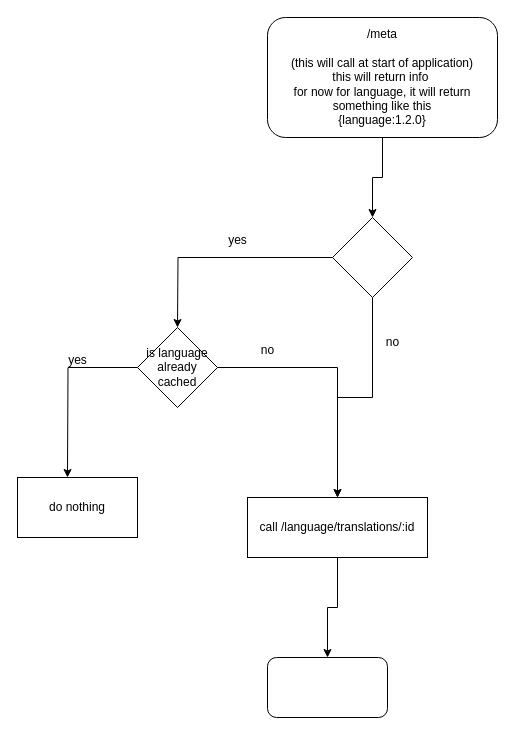
This 515x735 diagram has some shape labels left out. Here are the shapes that lost their labels. From the top down, the centre of each, then its label:
pixel 372 257: if same version
pixel 327 687: cache verison and language
